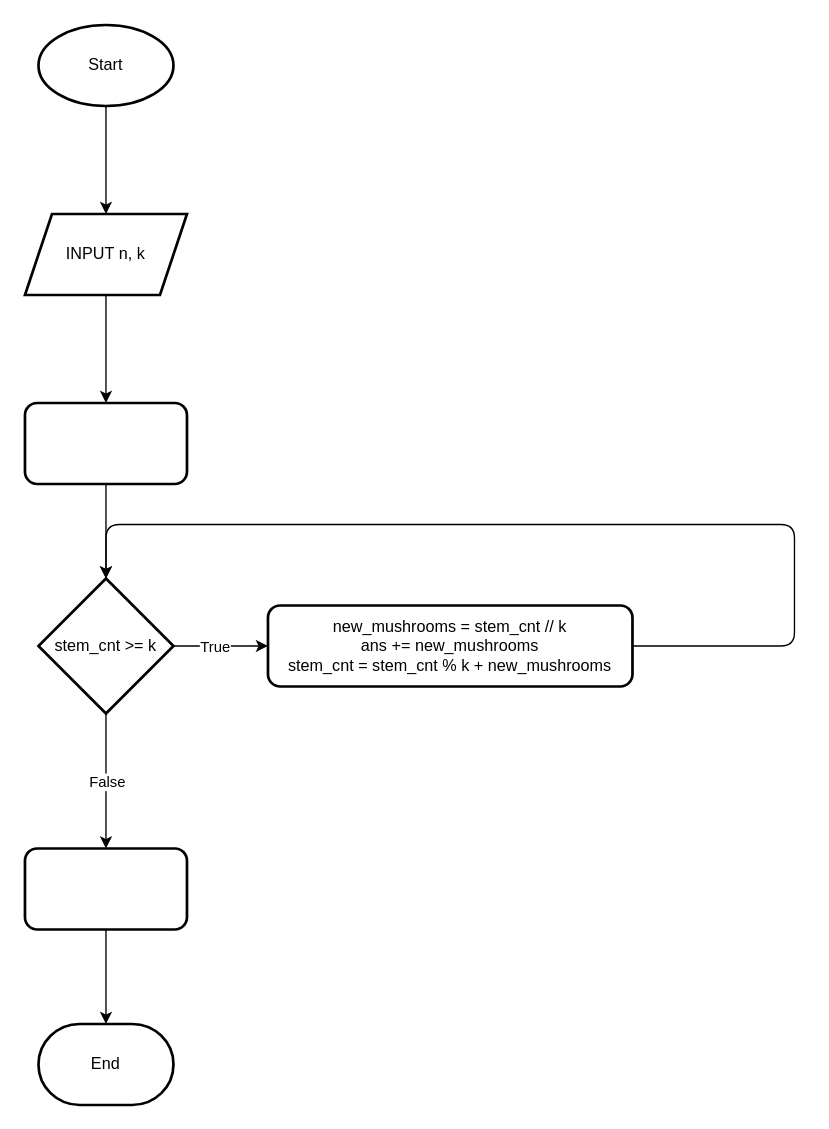
The diagram is 829 pixels wide and 1129 high, and some of its shapes have lost their labels. Here are the shapes that lost their labels. From the top down, the centre of each, then its label:
At point (105, 443): "ans = n stem_cnt = n".
At point (105, 888): "print(ans)".
